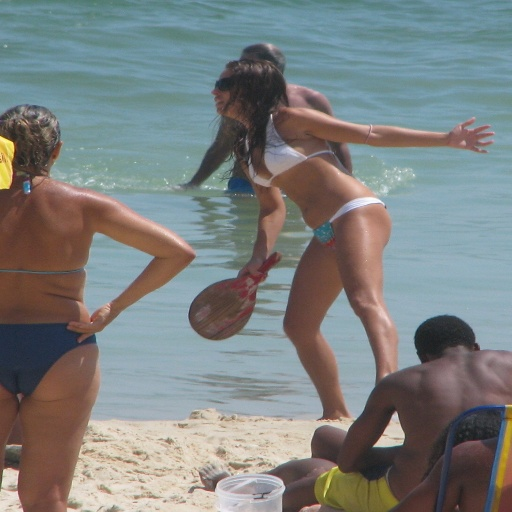hand: (436, 104, 502, 143), (63, 304, 119, 345), (237, 258, 269, 284), (175, 182, 197, 191)
